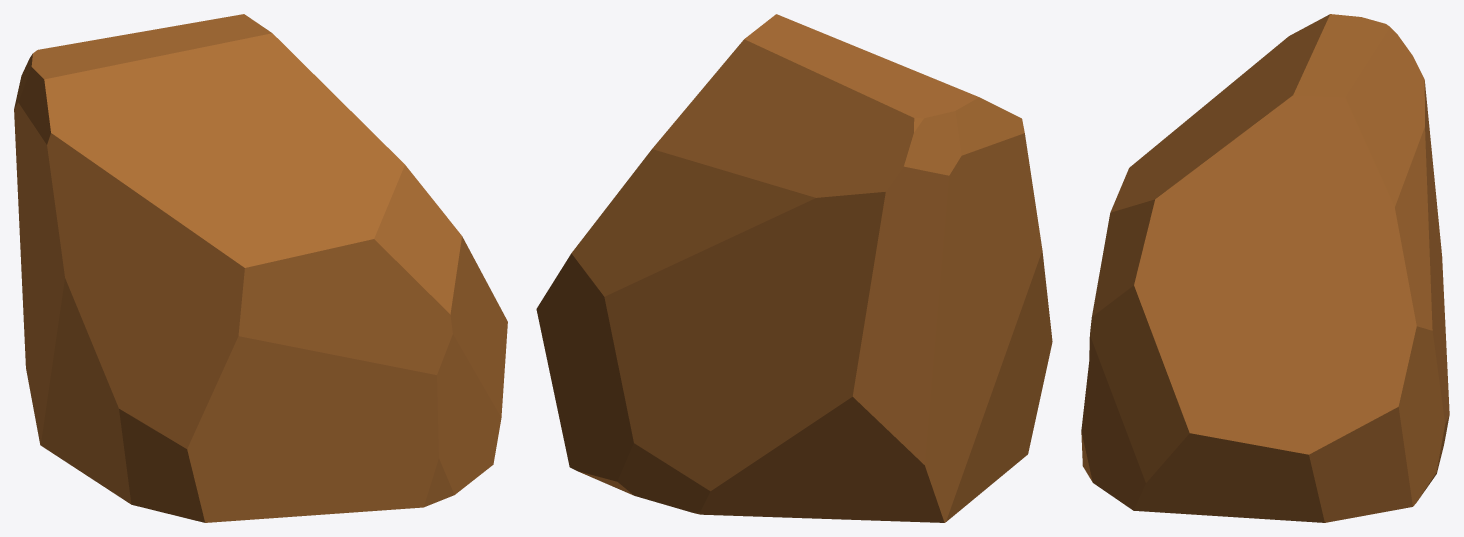
The model's file is HardRock_59.fbx.
3 views of the same model, side by side, from view 1: azimuth 30°, elevation 25°; view 2: azimuth 150°, elevation 25°; view 3: azimuth 270°, elevation 25° (orthographic). The views are drawn at different scales.
Visible parts, largest first — view 1: HardRock_59; view 2: HardRock_59; view 3: HardRock_59.
Part boxes in pixels (x1,y1,x2,y2): HardRock_59: (14,14,507,522); HardRock_59: (536,14,1052,522); HardRock_59: (1081,14,1449,522).
Size of the model in its own units: 108 by 98.86 by 92.14.
